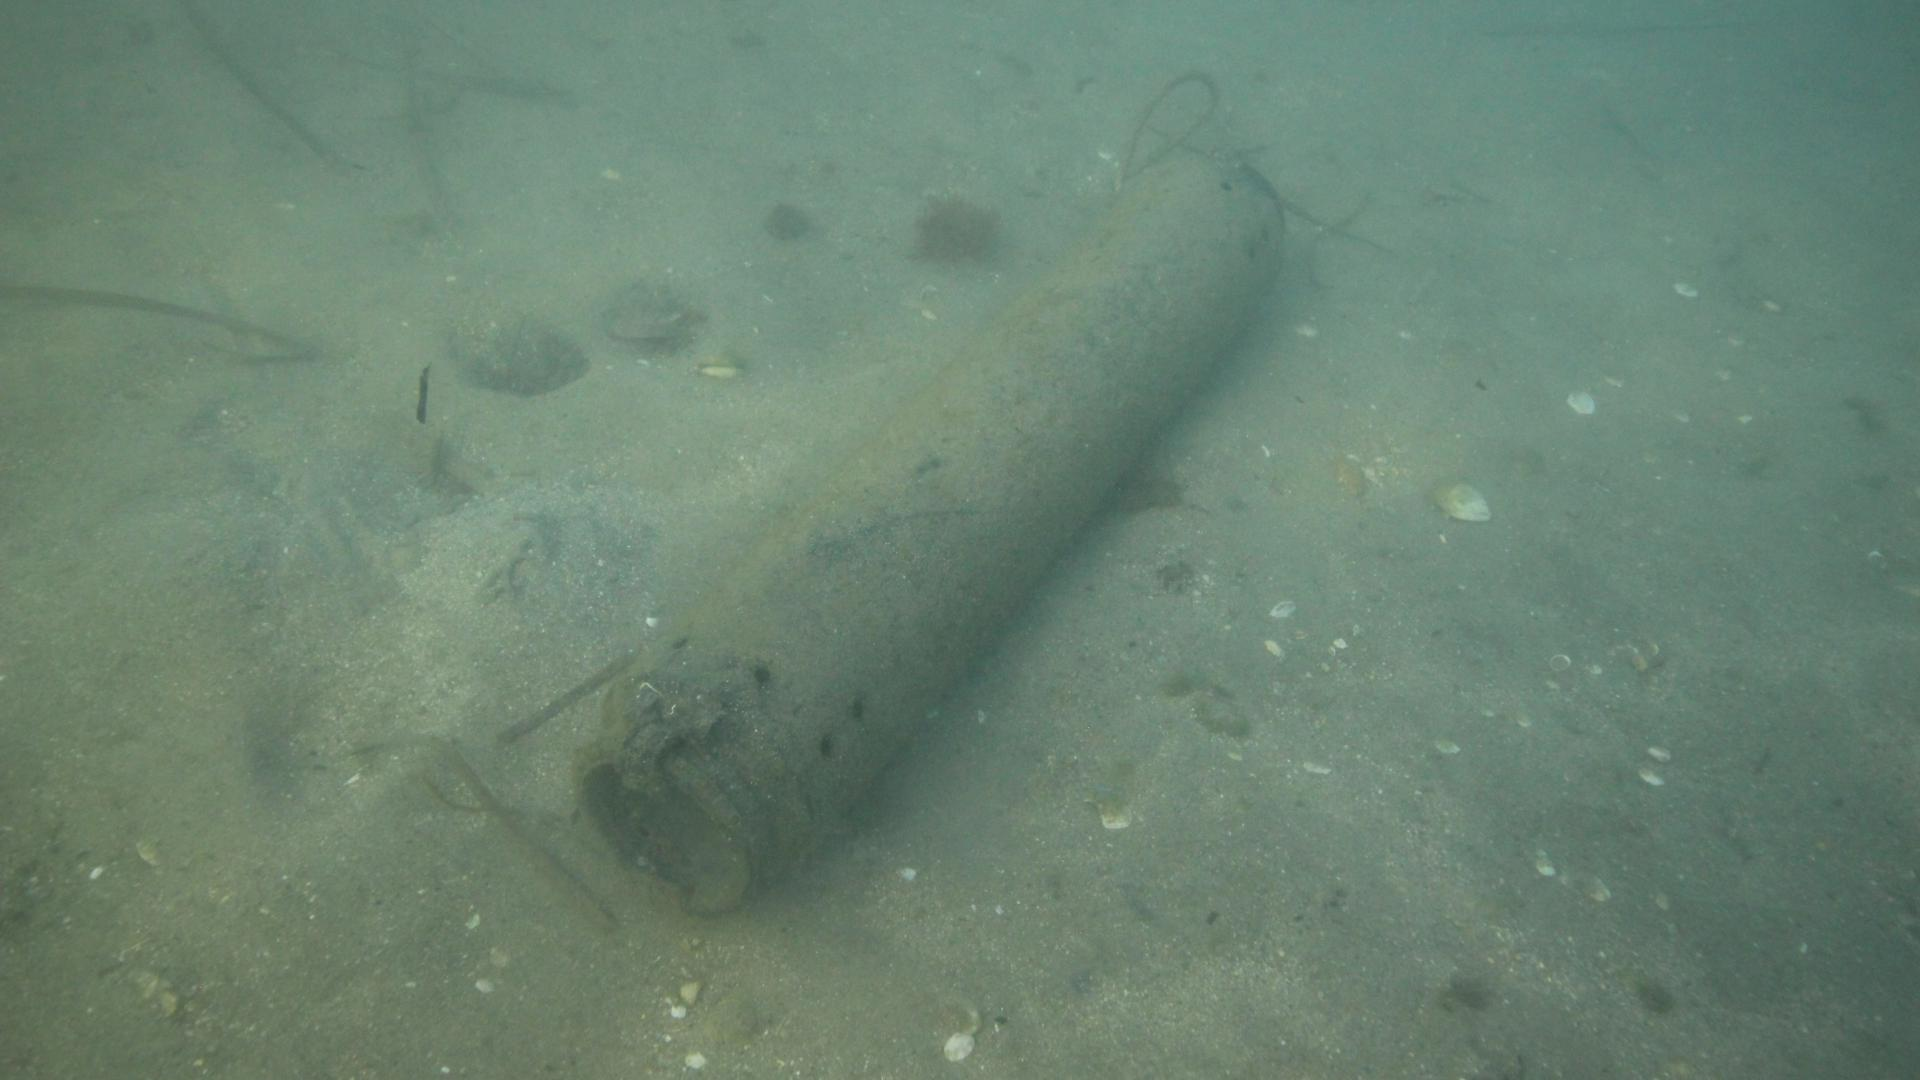eel fish trap: (572, 158, 1287, 922)
rope: (1120, 69, 1222, 181)
